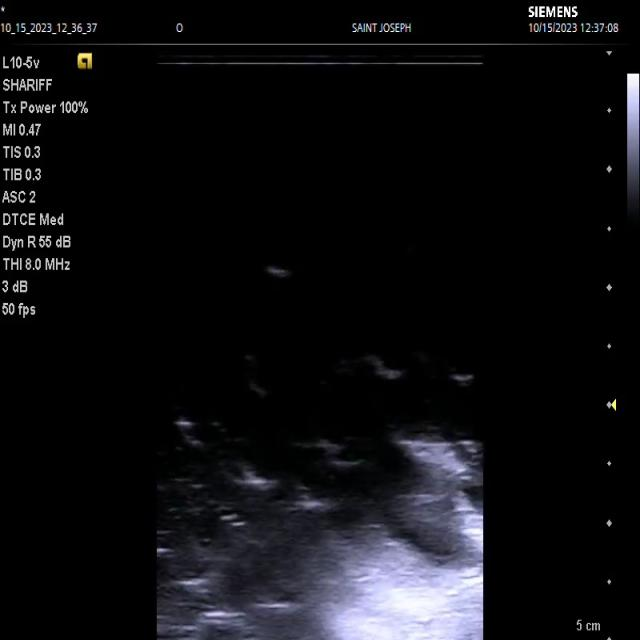tissue: (323, 442, 483, 640)
